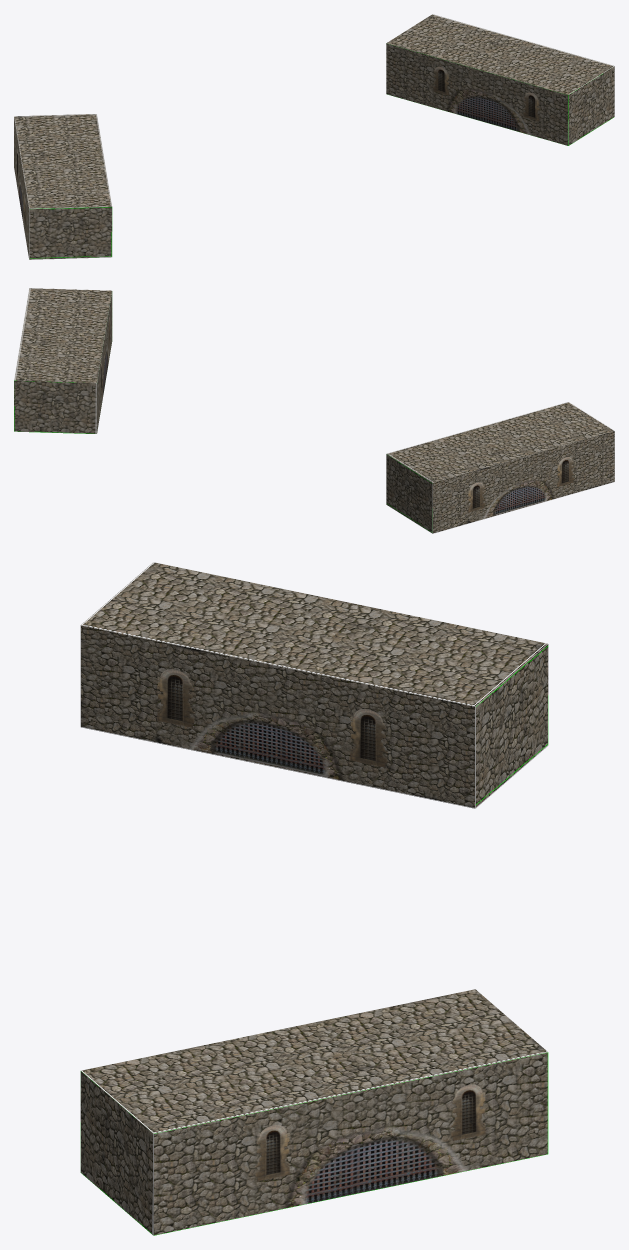
The model's file is small_gate.FBX.
3 renders of one model, top to bottom at view 1: azimuth 30°, elevation 25°; view 2: azimuth 150°, elevation 25°; view 3: azimuth 270°, elevation 25°, orthographic. The views are drawn at different scales.
Visible parts, largest first — view 1: Box006; view 2: Box006; view 3: Box006.
Part boxes in pixels (x1=…): Box006: x1=14, y1=14, x2=614, y2=259; Box006: x1=14, y1=288, x2=614, y2=533; Box006: x1=80, y1=562, x2=548, y2=1235.
Size of the model in its own units: 83.96 by 6.98 by 29.04.
